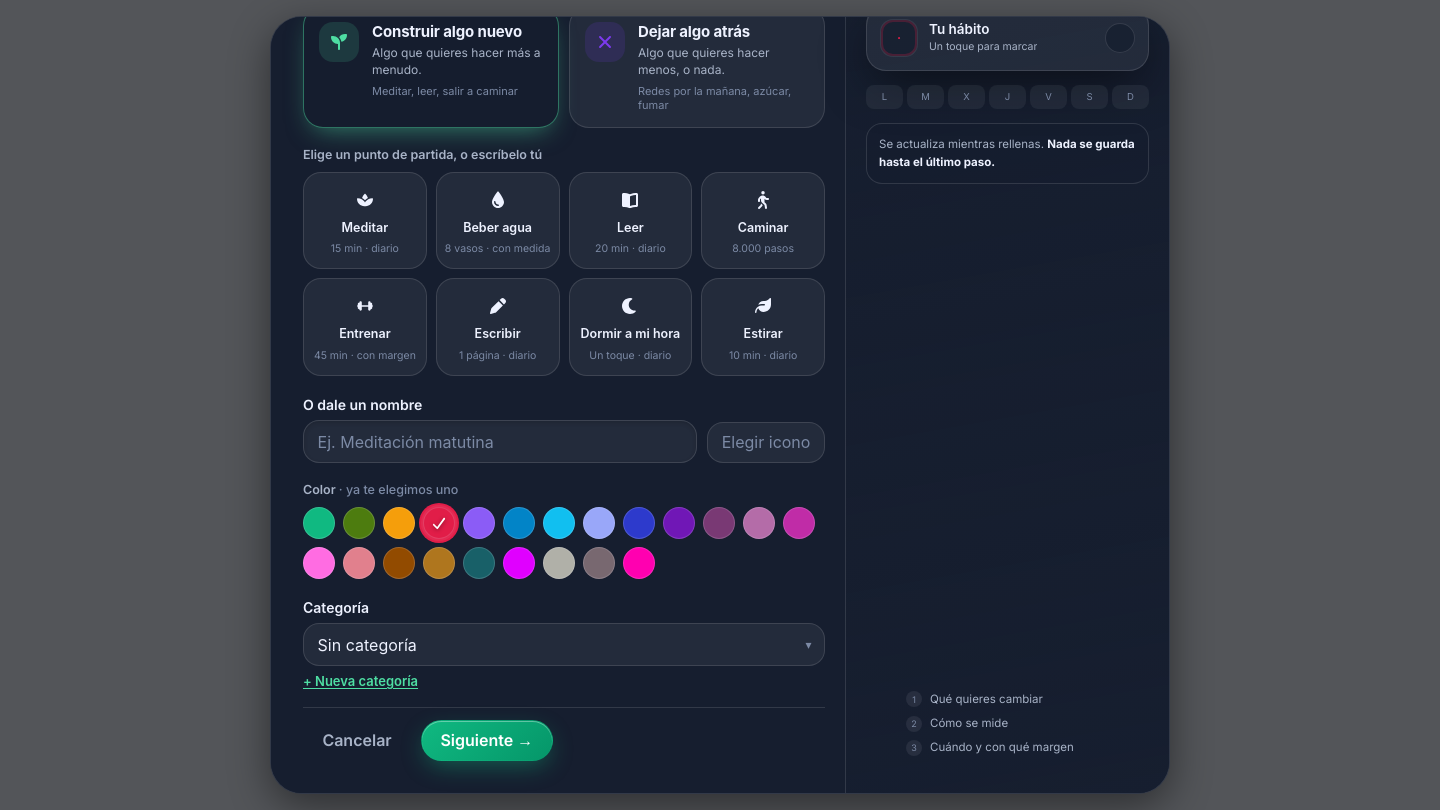
Test: HabitFormModal — crear › «+ Nueva categoría» abre la paleta con un color ya marcado, crea con él y deja la categoría elegida (FEAT-026, criterios 14, 15 y 18)
This screenshot has width=1440, height=810.
(page scrolled)
Step 1. Click the button "+ Nueva categoría" → (360, 681), box [303,673,418,689]
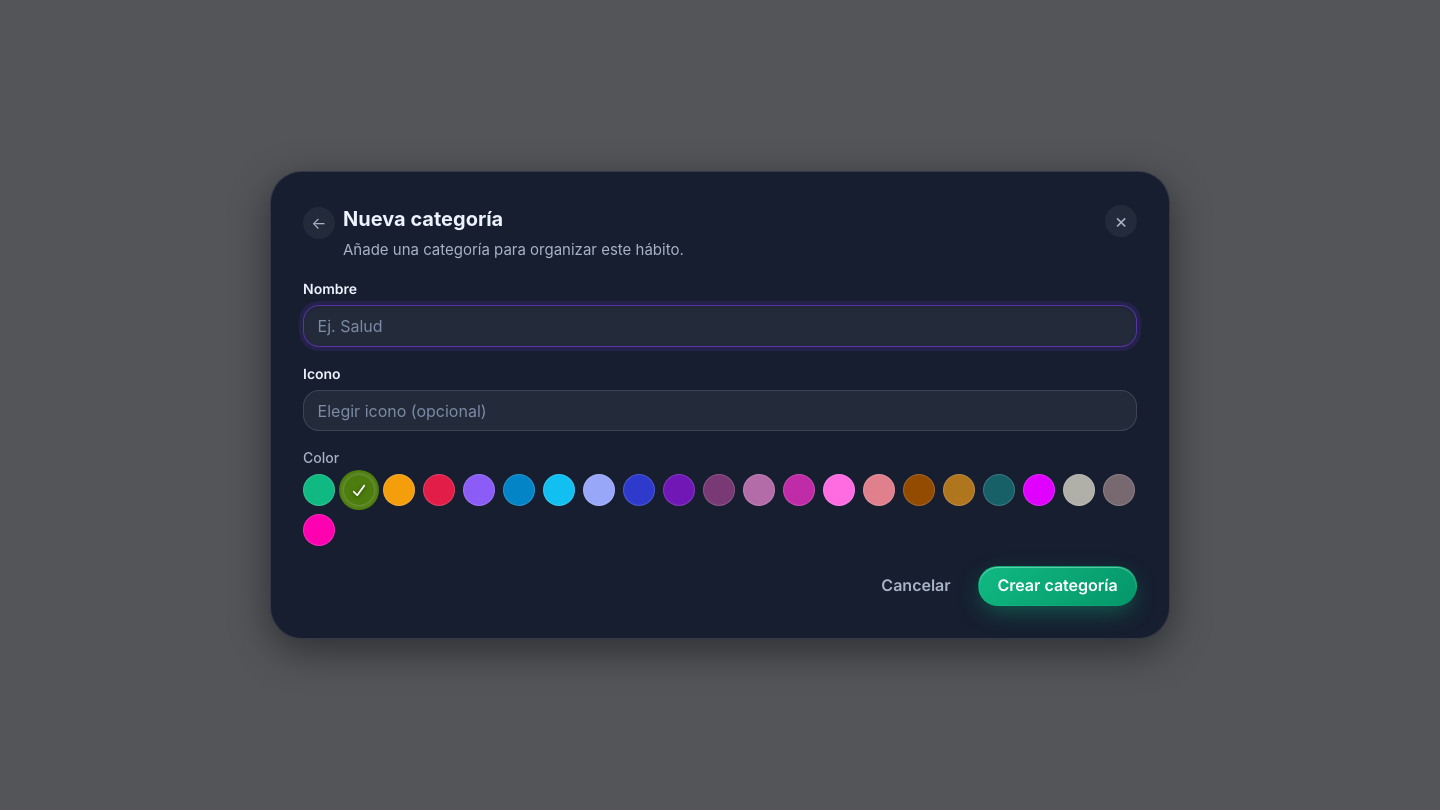
Expected: the heading "Nueva categoría" is shown, [343,207,503,231]
Step 2. Type "Lectura" into the field labelled "Nombre" → (720, 326), box [303,305,1137,347]
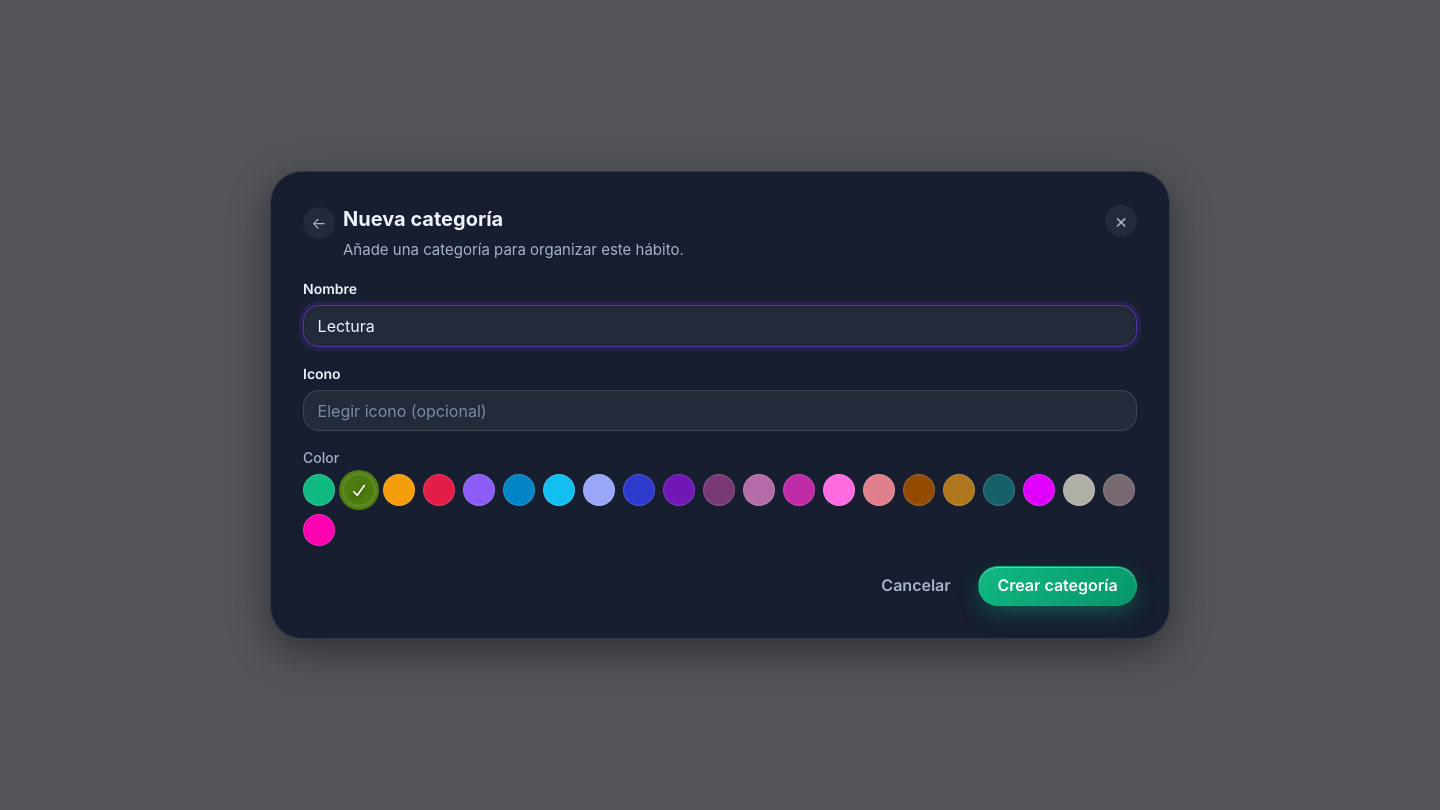
Step 3. Click the button "Crear categoría" → (1058, 586), box [978,566,1137,606]
(page scrolled)
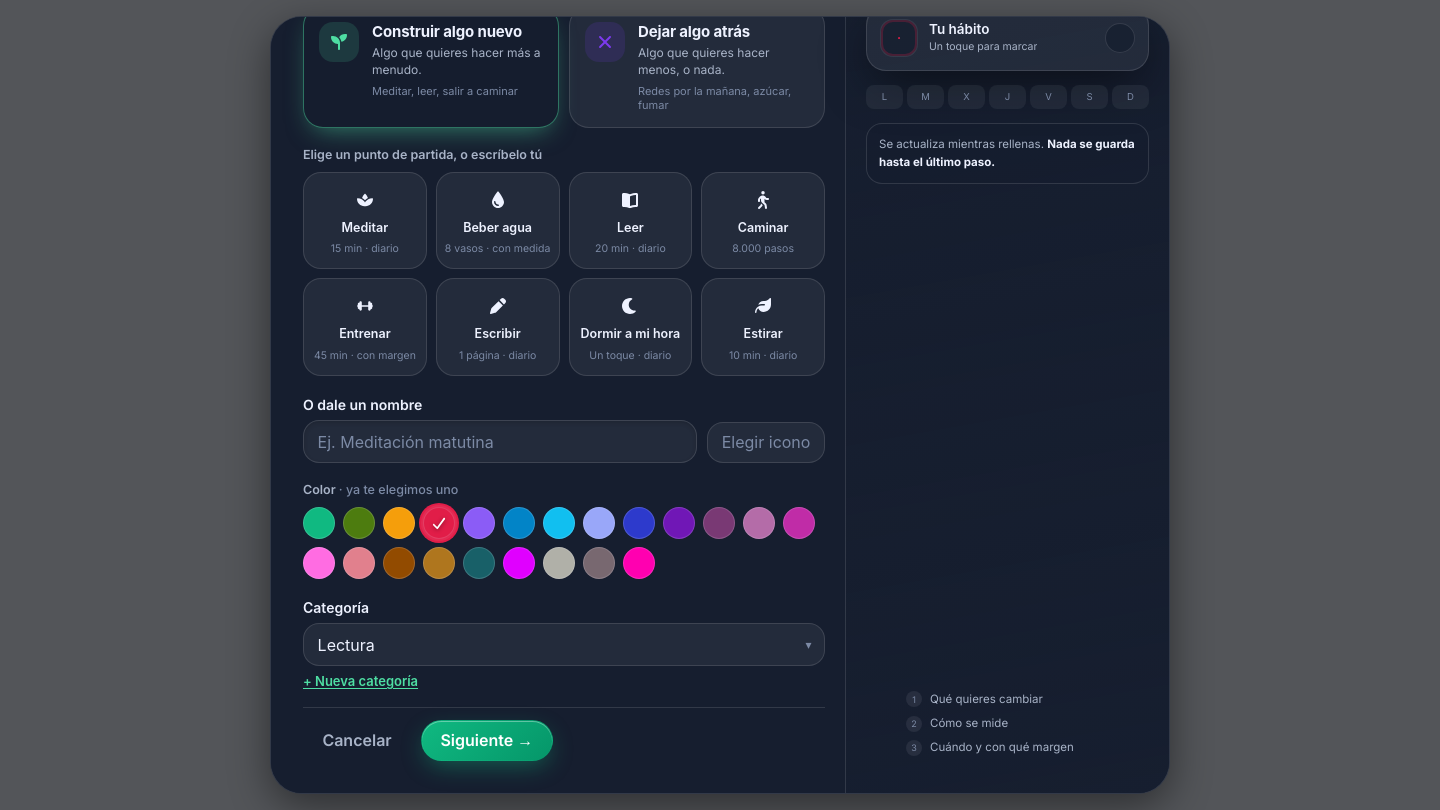
Expected: the dropdown labelled "Categoría" shows "Lectura", [303,623,825,666]
